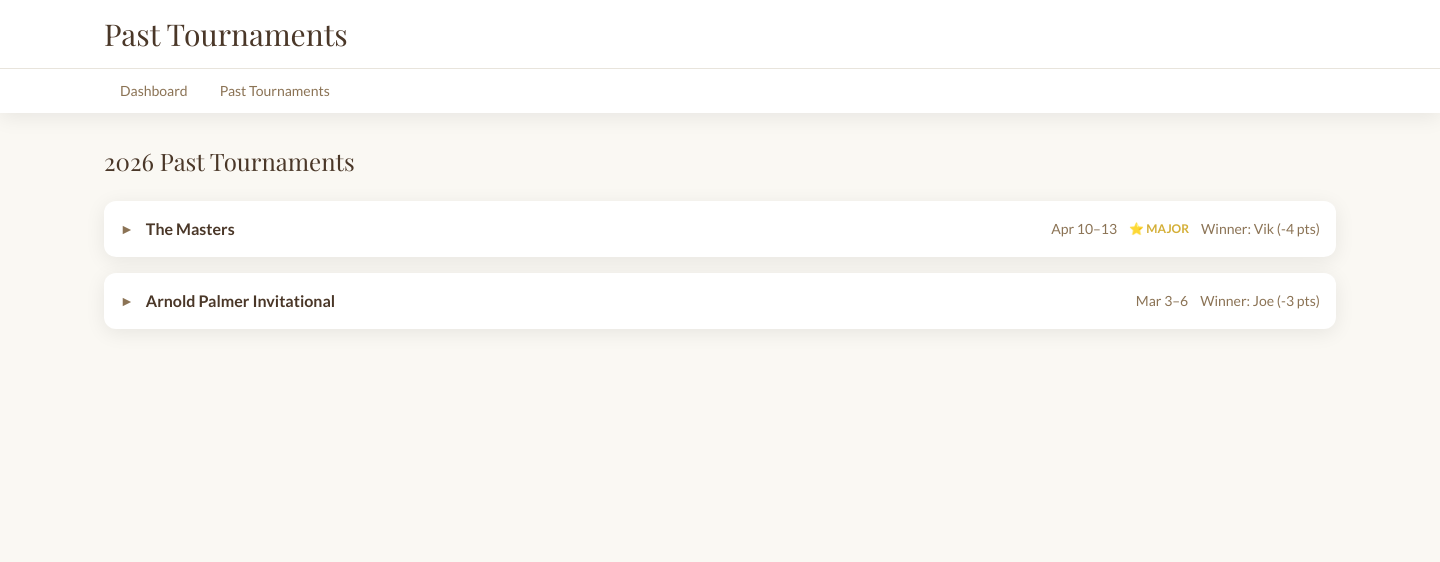
PastTournaments › Accordion Behavior › should collapse tournament when clicked again
Expected: the text "The Masters" is shown, [146, 219, 235, 238]
Note: Use button role to target the accordion toggle, not the leaderboard header
Click the button "► The Masters Apr 10–13 ⭐ MAJOR Winner: Vik (-4 pts)". click: click(190, 228)
box: [104, 201, 1336, 257]
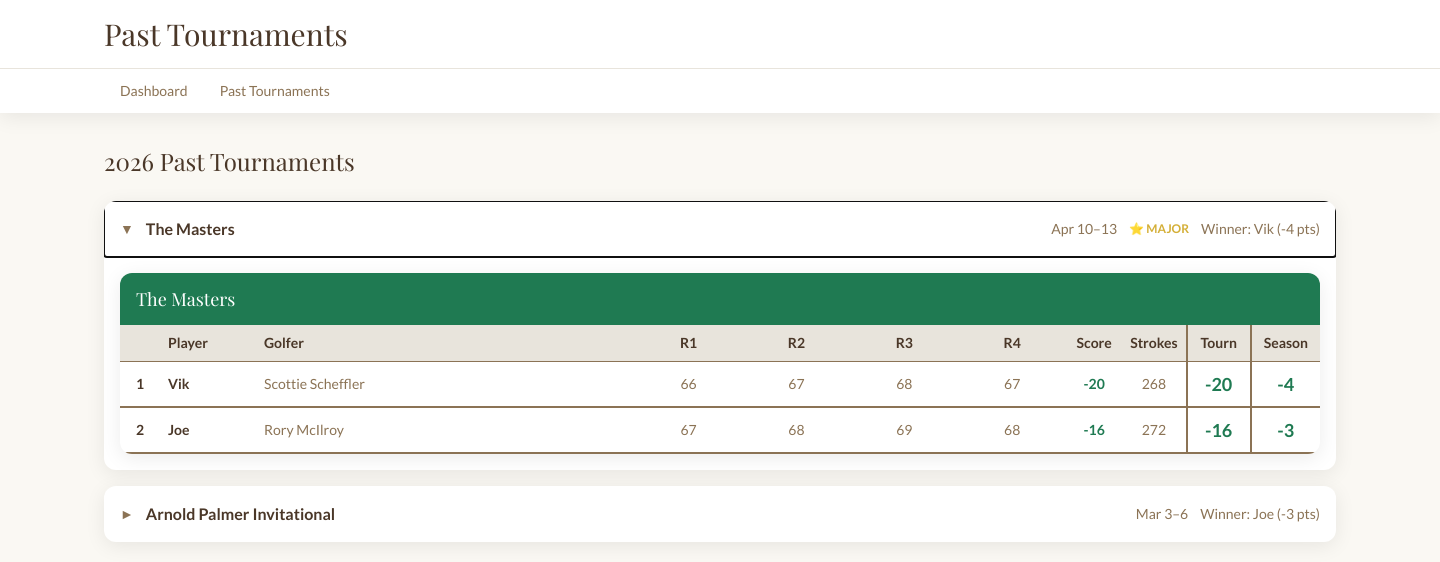
Expected: the text "Scottie Scheffler" is shown, [264, 374, 365, 394]
Click the button "▼ The Masters Apr 10–13 ⭐ MAJOR Winner: Vik (-4 pts)". click: click(190, 228)
box: [104, 201, 1336, 257]
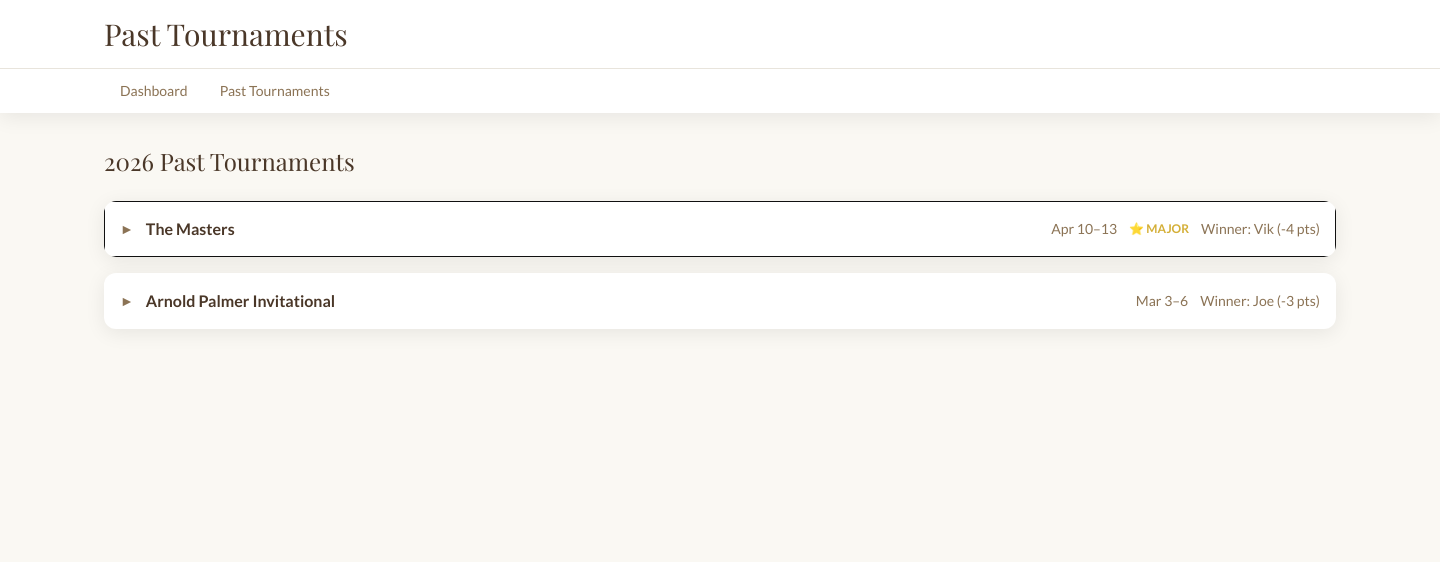
Expected: the text "Scottie Scheffler" is gone
